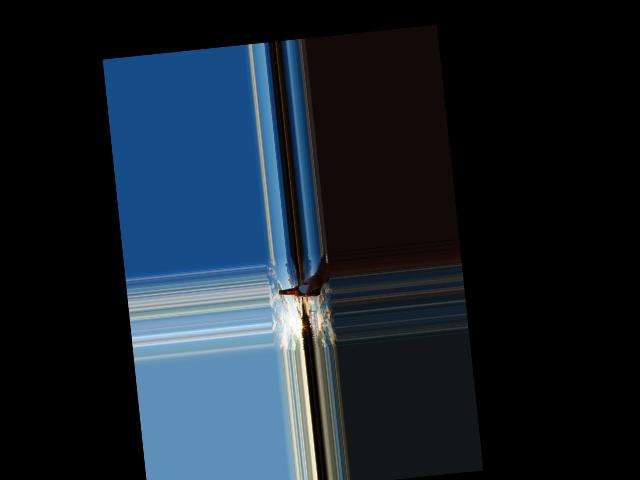beer: (278, 283, 318, 300)
